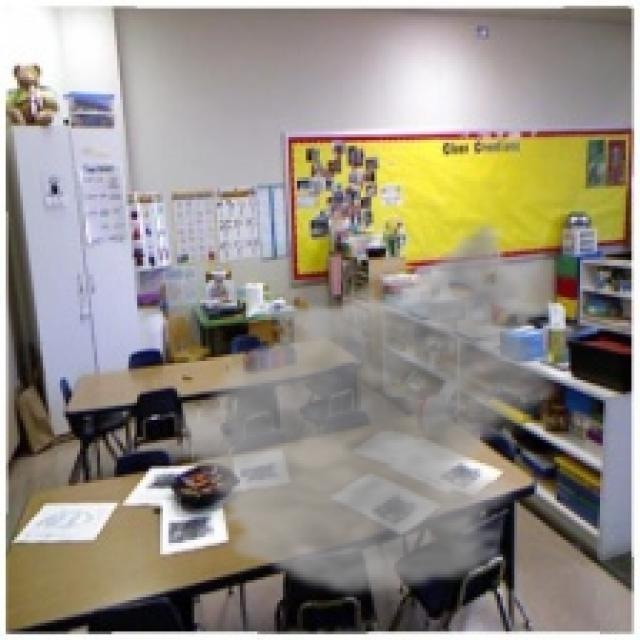Smoke: (159, 217, 572, 600)
